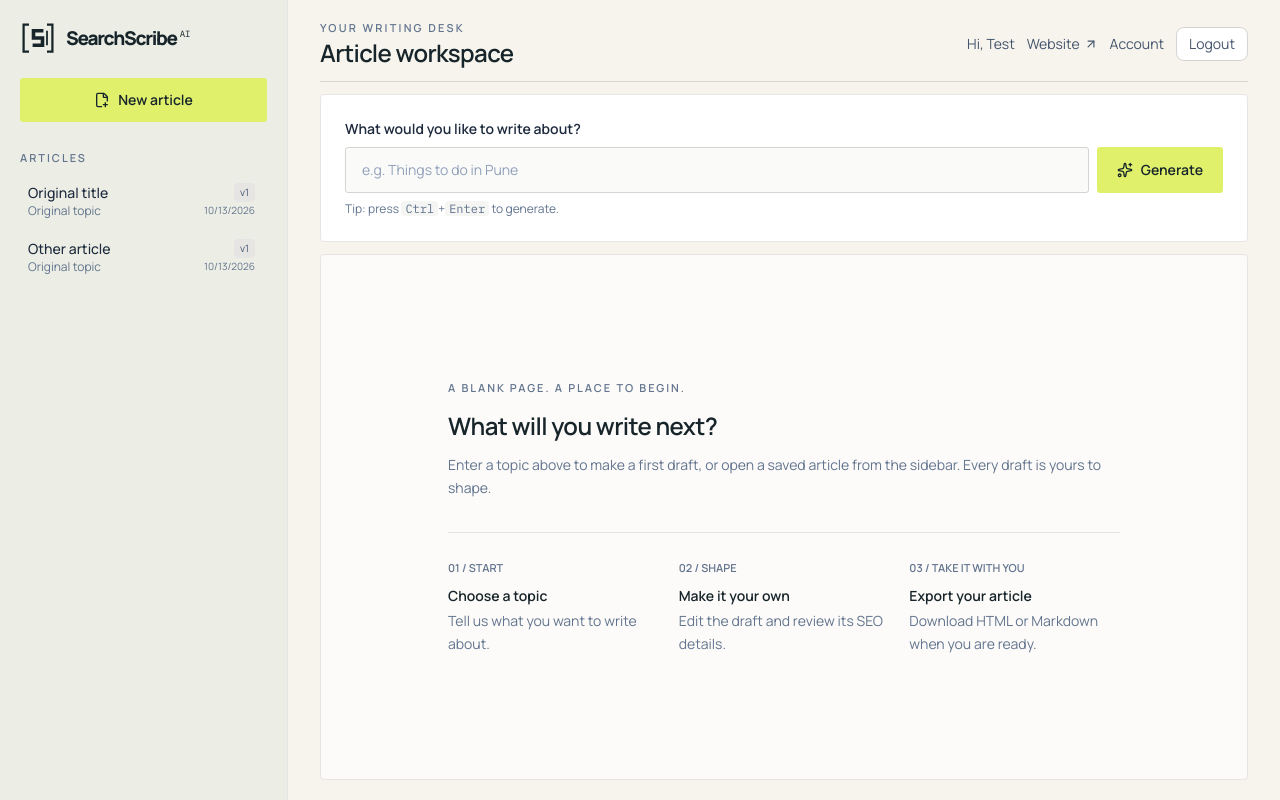
workspace unsaved edits › keeps the topic and asks for clarification without replacing the selected article
The width and height of the screenshot is (1280, 800).
Step 1. Click the button "Original title v1 Original topic 10/13/2026" → (142, 200), box [20,174,263,226]
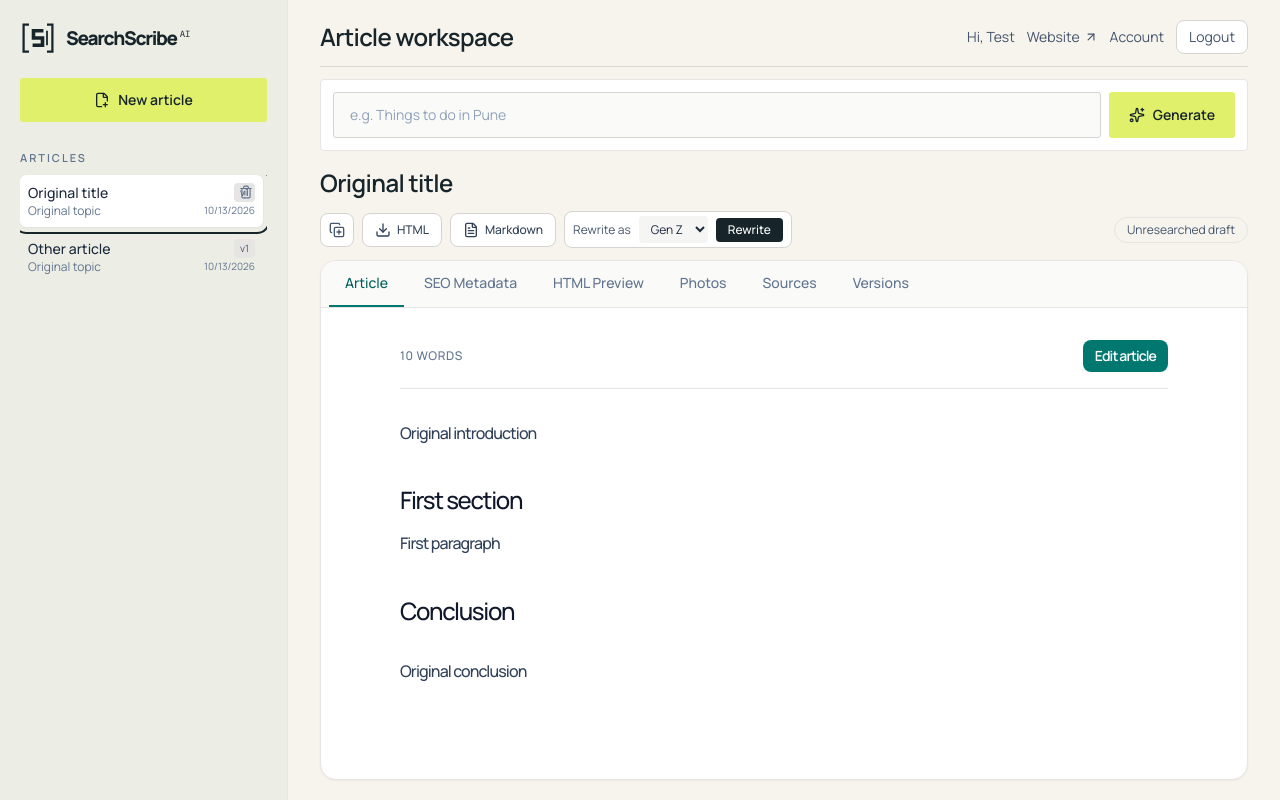
Step 2. Type "ABC Trek" into the field named "Topic / search query" → (717, 115), box [333,92,1101,138]
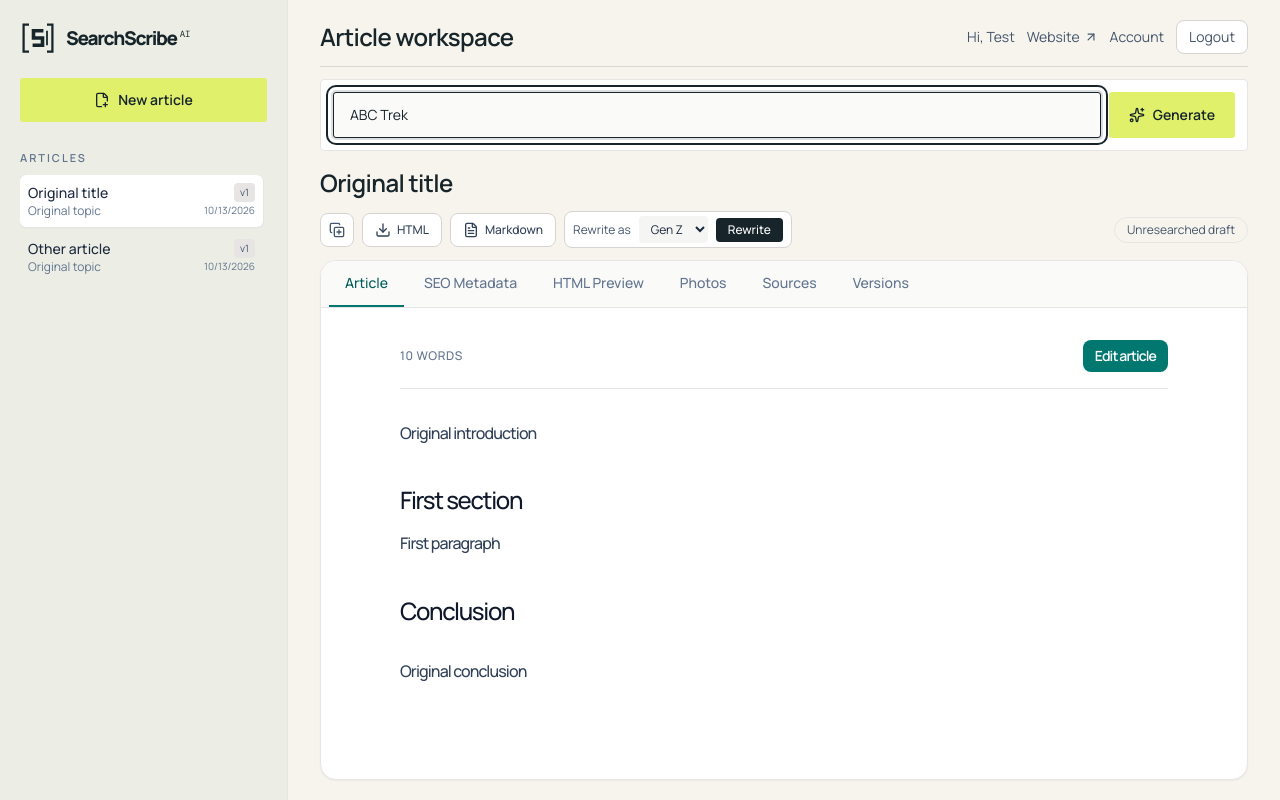
Step 3. Click the button "Generate" → (1172, 115), box [1109,92,1235,138]
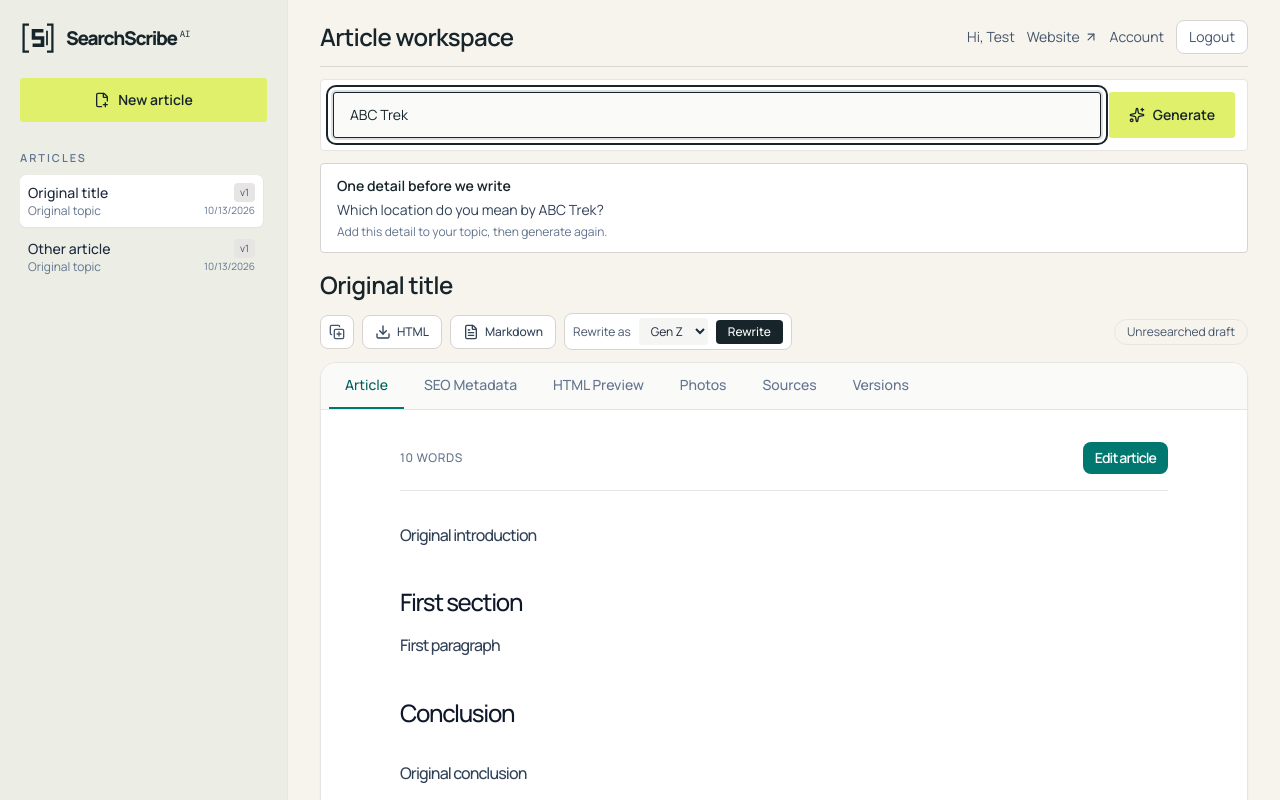
expect the button "Edit article" is shown: met, box [1083,442,1168,474]
expect the text "Which location do you mean by ABC Trek?" is shown: met, box [337,200,604,219]
Step 4. Type " in Nepal" into the field named "Topic / search query" → (717, 115), box [333,92,1101,138]
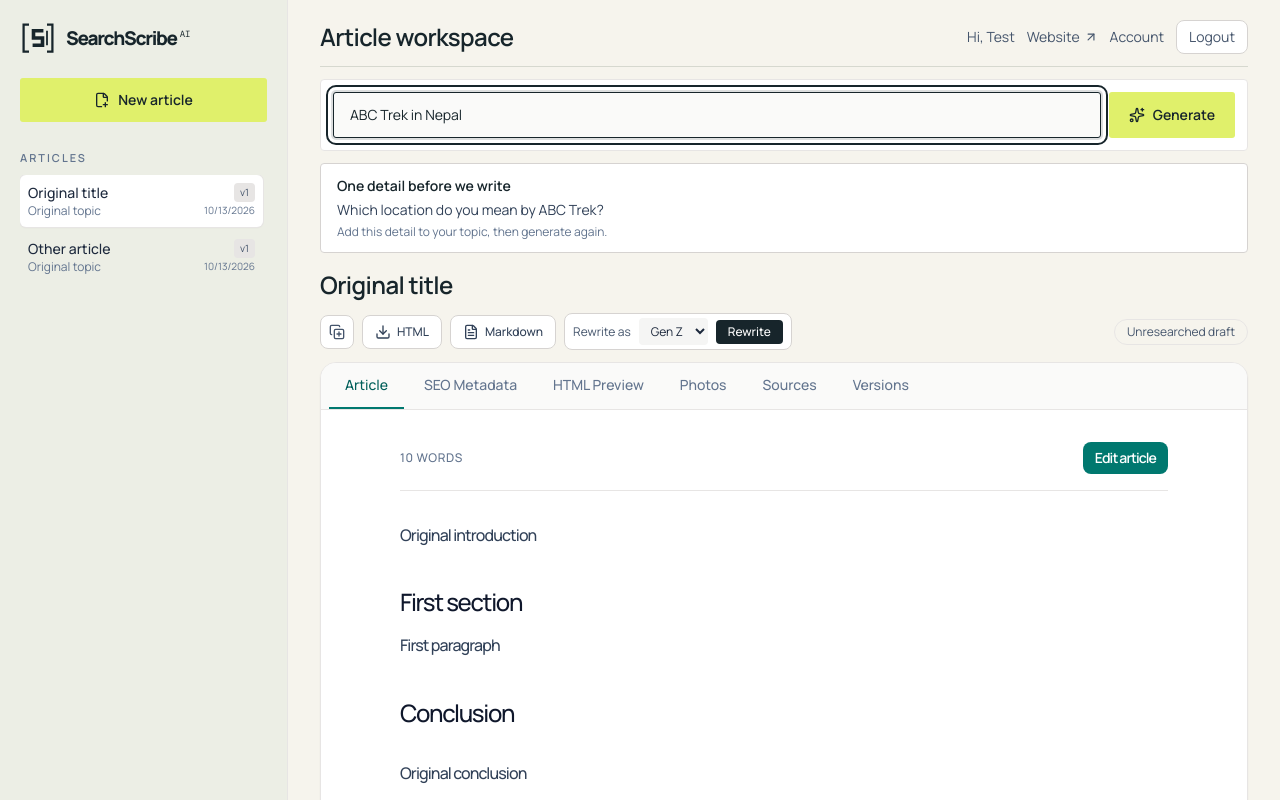
Step 5. Click the button "Generate" → (1172, 115), box [1109,92,1235,138]
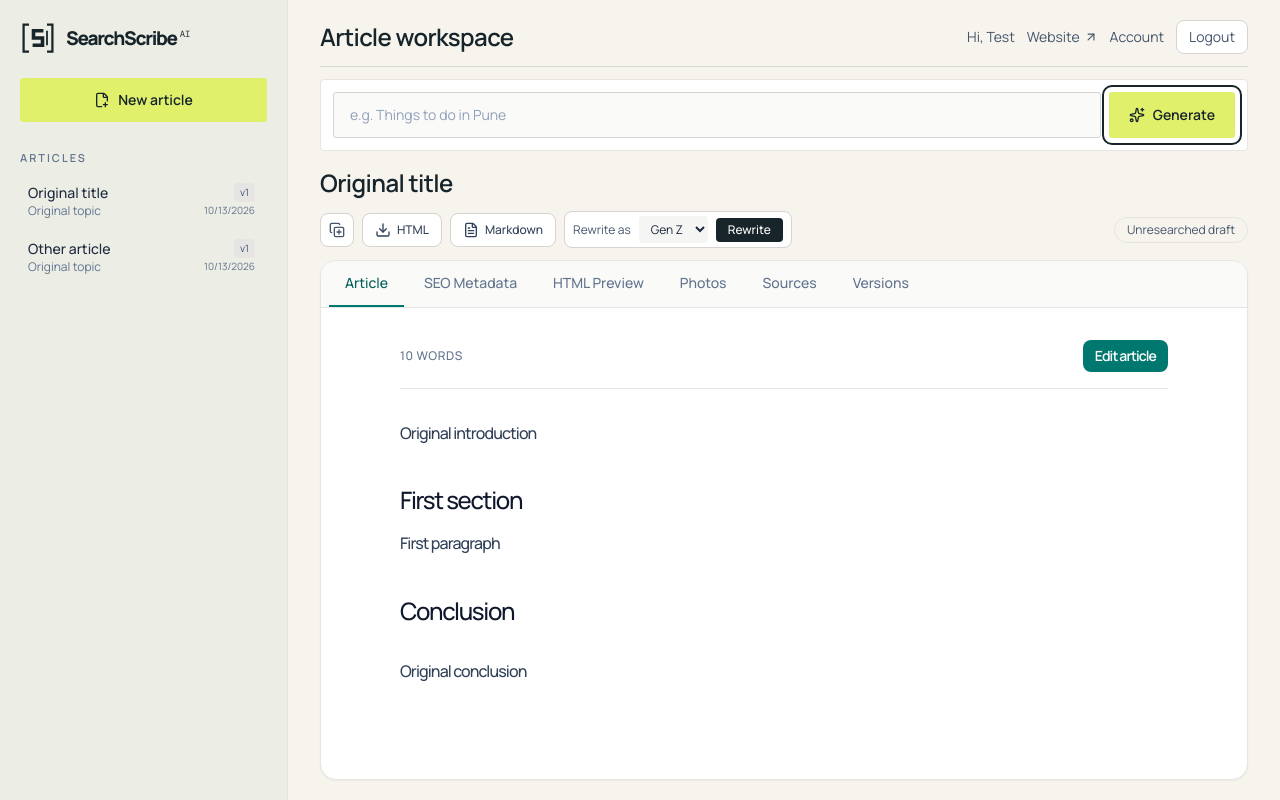
expect the text "One detail before we write" is gone: met
